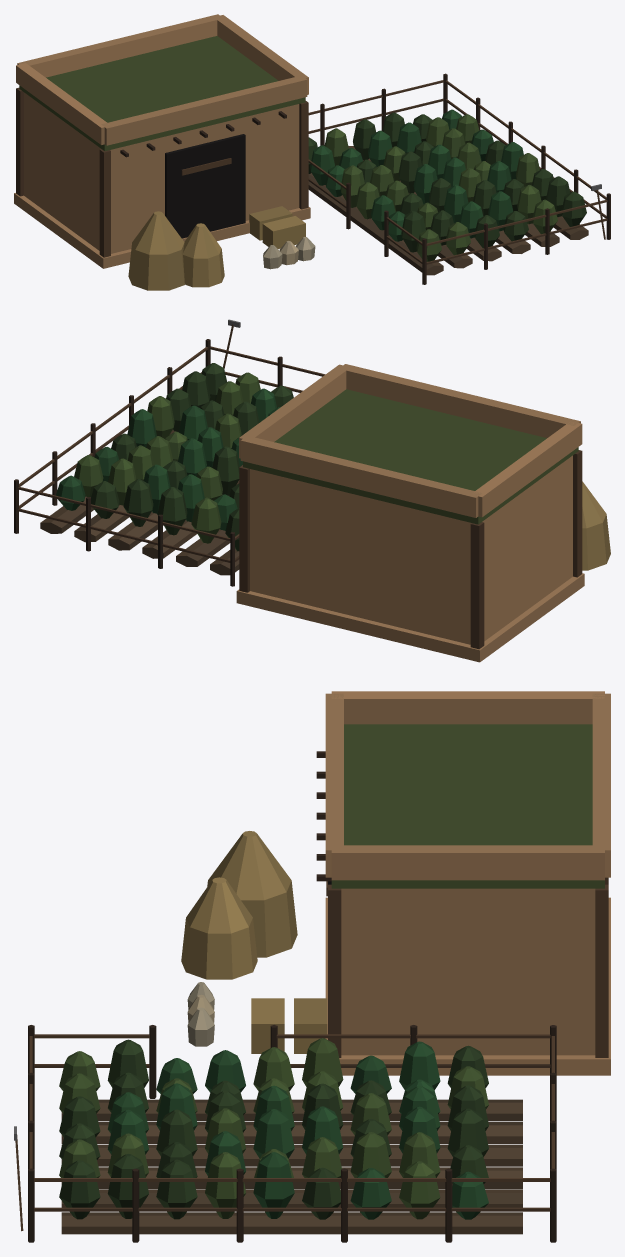
File: walk_steppe_plantation.glb
3 views of the same model, one above another, from view 1: azimuth 30°, elevation 25°; view 2: azimuth 150°, elevation 25°; view 3: azimuth 270°, elevation 25° (orthographic). The views are drawn at different scales.
Visible parts, largest first — view 1: walk_steppe_plantation, walk_steppe_plantation_roof; view 2: walk_steppe_plantation, walk_steppe_plantation_roof; view 3: walk_steppe_plantation, walk_steppe_plantation_roof.
Part boxes in pixels (x1,y1,x2,y2): walk_steppe_plantation: [14, 73, 610, 290]; walk_steppe_plantation_roof: [16, 14, 308, 150]; walk_steppe_plantation: [14, 319, 610, 662]; walk_steppe_plantation_roof: [239, 364, 582, 524]; walk_steppe_plantation: [14, 751, 610, 1242]; walk_steppe_plantation_roof: [325, 691, 610, 888].
Size of what is drawn, in the model's own units: 12.6 by 4.24 by 9.84.
2 materials, 2 textured.
